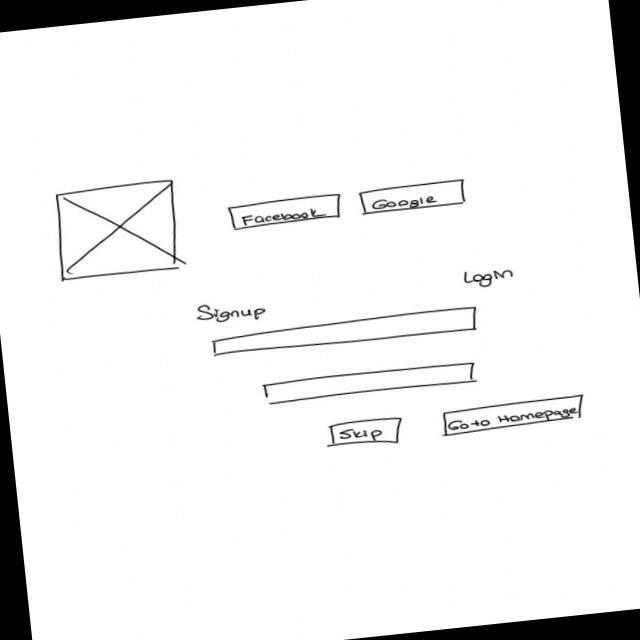button: (438, 393, 590, 439), (226, 192, 346, 233), (358, 177, 469, 217), (328, 415, 407, 452)
image: (49, 179, 186, 284)
input: (210, 305, 482, 361), (262, 360, 482, 406)
label: (194, 298, 271, 328), (463, 265, 519, 291)
